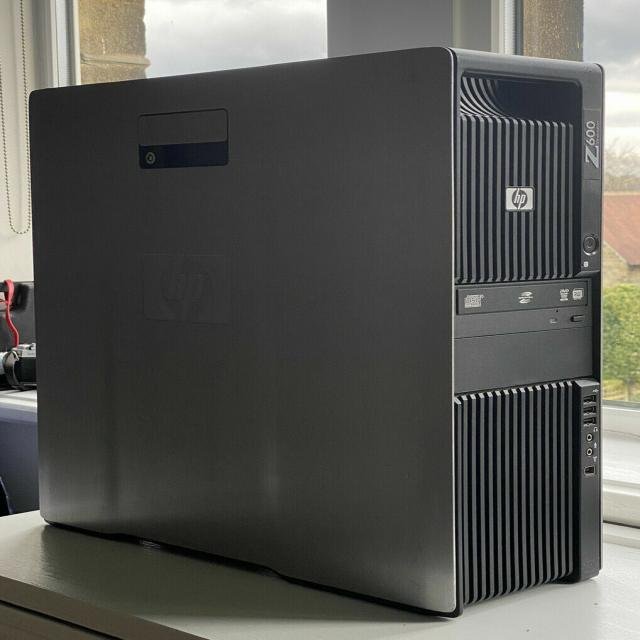Desktop-PC: (14, 44, 624, 630)
